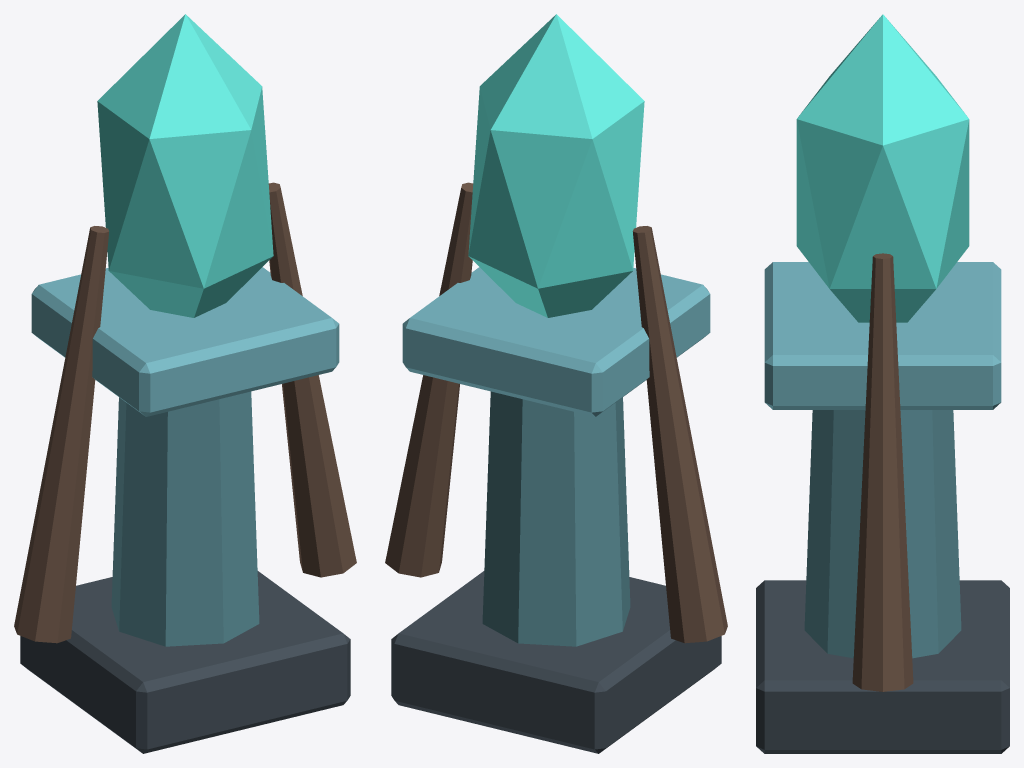
File: SH10_L07_SoulBeacon.fbx
The picture shows the model from 3 angles, left to right: view 1: azimuth 30°, elevation 25°; view 2: azimuth 150°, elevation 25°; view 3: azimuth 270°, elevation 25°; orthographic projection. The views are drawn at different scales.
Parts seen in each view (by area): view 1: SH10_L07_SoulBeacon; view 2: SH10_L07_SoulBeacon; view 3: SH10_L07_SoulBeacon.
Part boxes in pixels (box(x1,y1,x2,y2)): SH10_L07_SoulBeacon: box(14, 14, 356, 753); SH10_L07_SoulBeacon: box(385, 14, 727, 753); SH10_L07_SoulBeacon: box(756, 14, 1009, 753).
Size of the model in its own units: 118 by 225 by 75.
